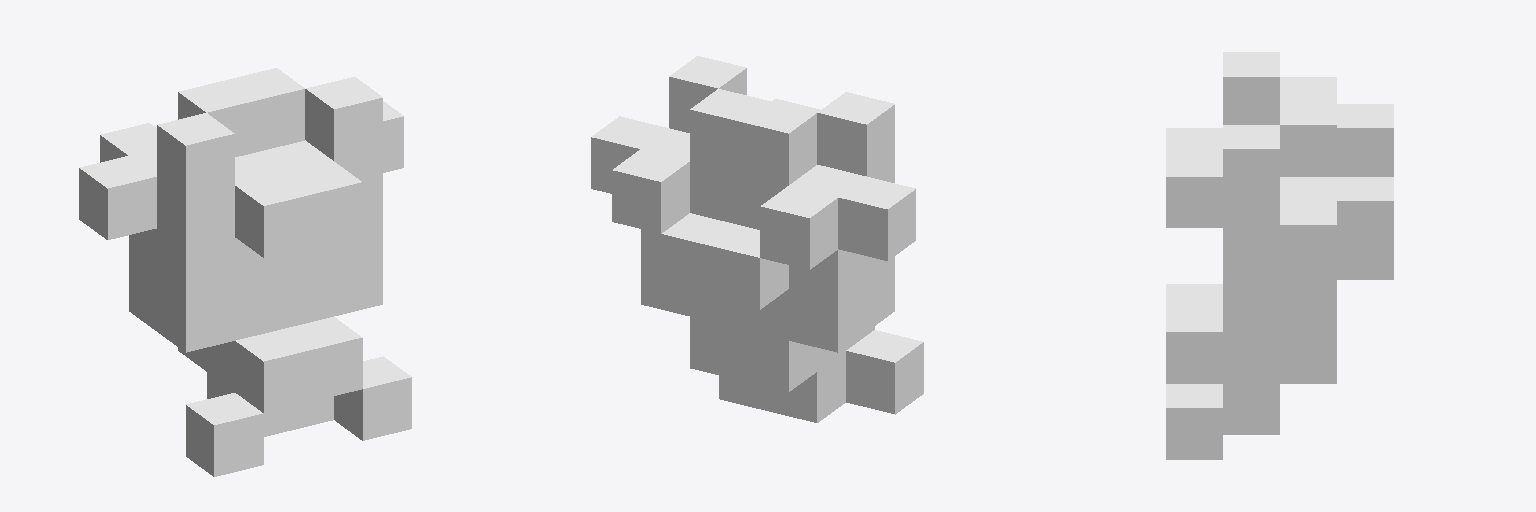
Rendered from scummBarPirate03_head.obj.
3 renders of one model, left to right at view 1: azimuth 30°, elevation 25°; view 2: azimuth 150°, elevation 25°; view 3: azimuth 270°, elevation 25°, orthographic.
Size of the model in its own units: 6 by 6 by 4.